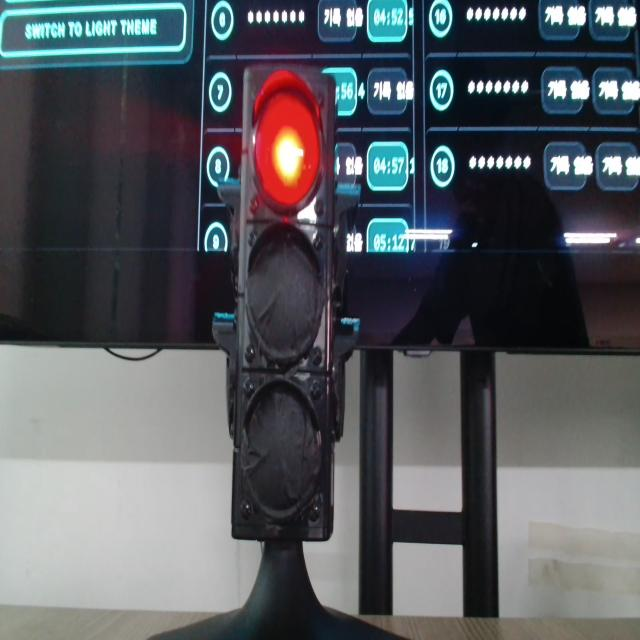red_light: (254, 85, 320, 206)
